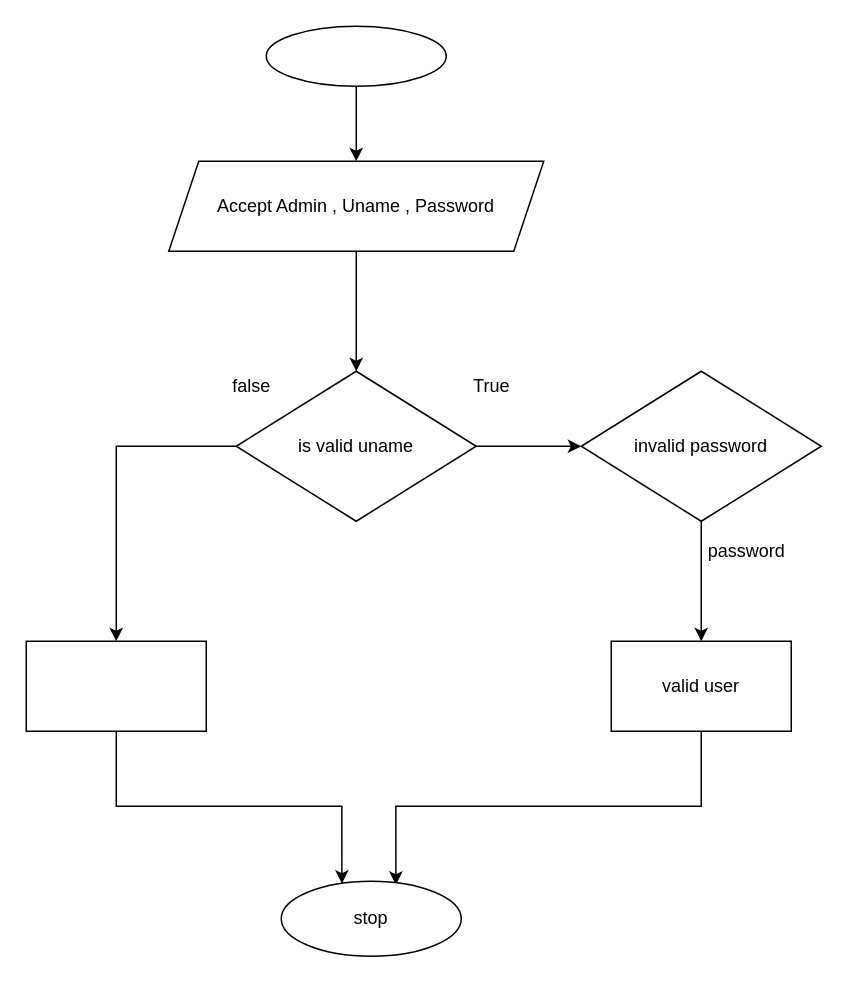
The diagram is 848 pixels wide and 983 high, and some of its shapes have lost their labels. The shapes that lost their labels are listed below. From the top down, each one's box as (x1, y1, x2, y2) in pixels, then its label:
(265, 25, 446, 86): start
(25, 640, 206, 731): invalid user
